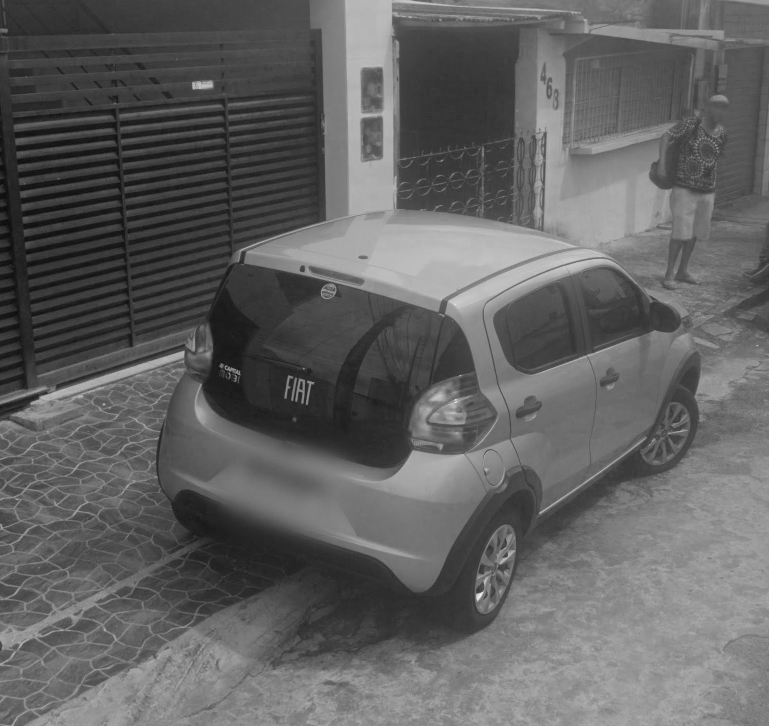car: (153, 202, 704, 633)
